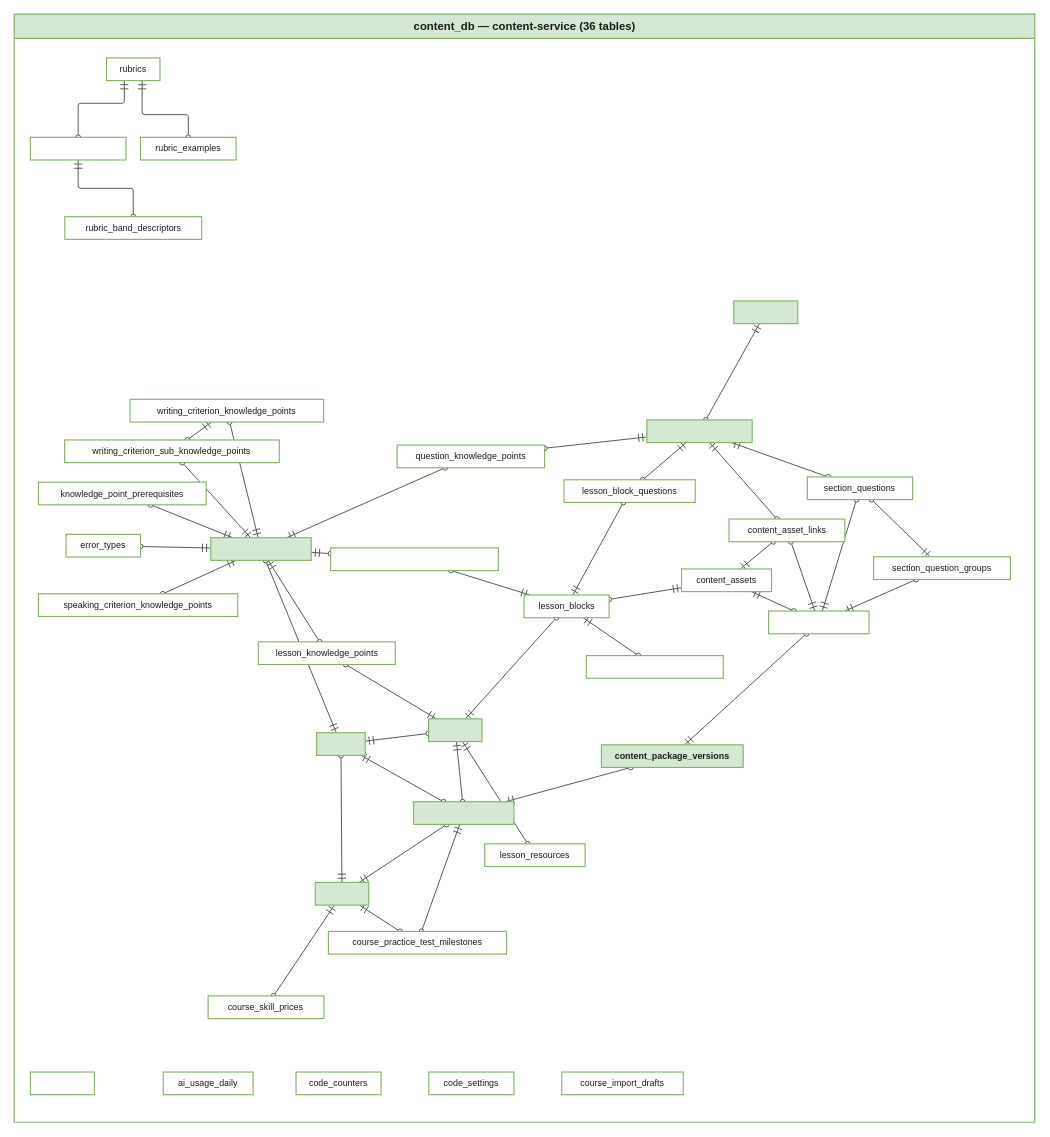
This 1050x1137 diagram has some shape labels left out. The shapes that lost their labels are listed below. From the top down, each one's centre as x and y in pixels, then its label:
At point (77, 148): "rubric_criteria".
At point (765, 312): "questions".
At point (699, 431): "question_versions".
At point (260, 549): "knowledge_points".
At point (414, 559): "lesson_block_knowledge_points".
At point (818, 622): "content_sections".
At point (654, 666): "lesson_block_vocabulary".
At point (340, 744): "topics".
At point (455, 730): "lessons".
At point (463, 813): "content_packages".
At point (341, 893): "courses".
At point (62, 1083): "ai_drafts".
